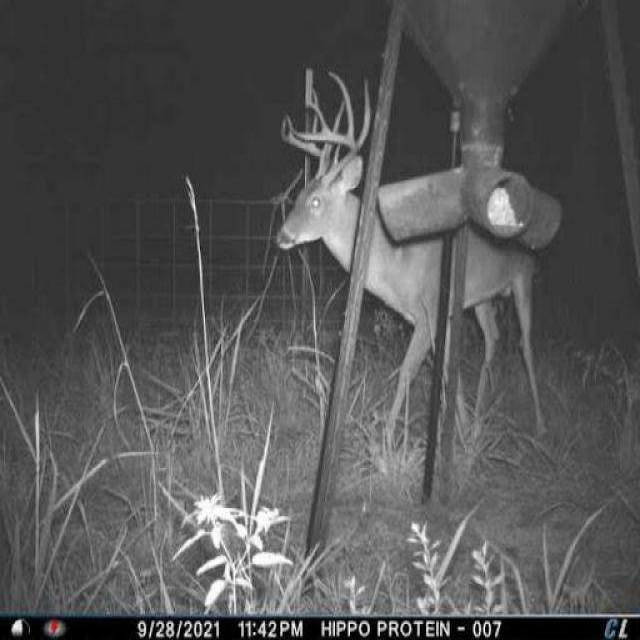deer: (269, 61, 579, 468)
